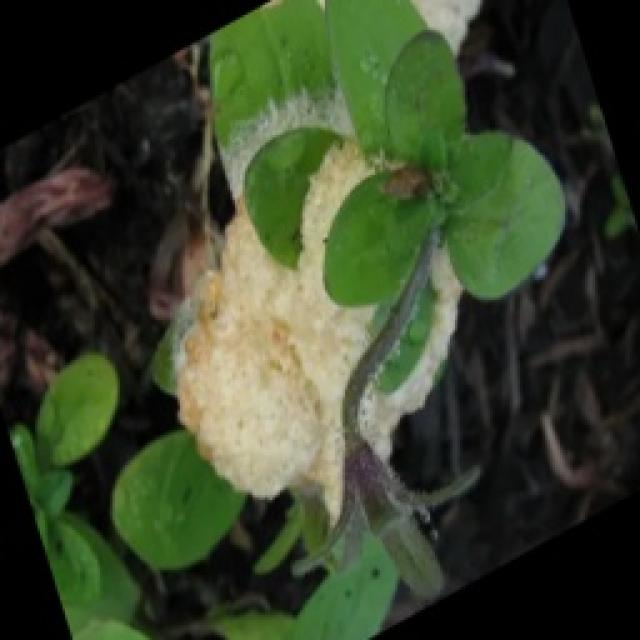Dog_vomit_slime_mold: (133, 150, 537, 516)
